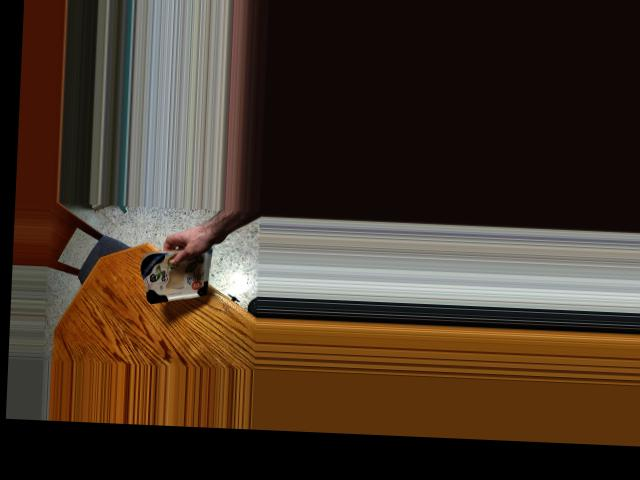cheese: (138, 239, 214, 306)
